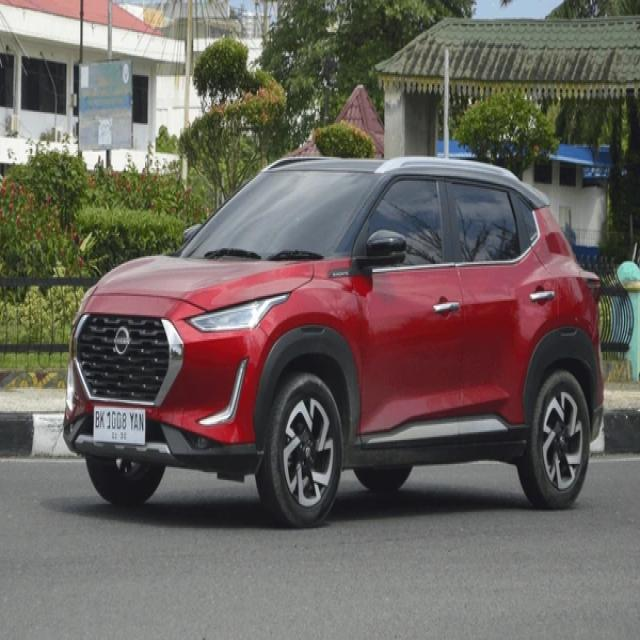nissan: (113, 328, 131, 354)
